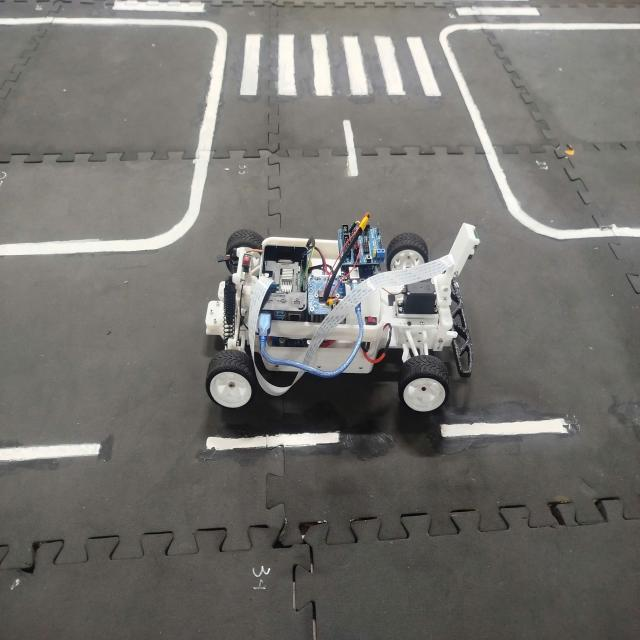SiCo-CAR: (203, 213, 481, 414)
